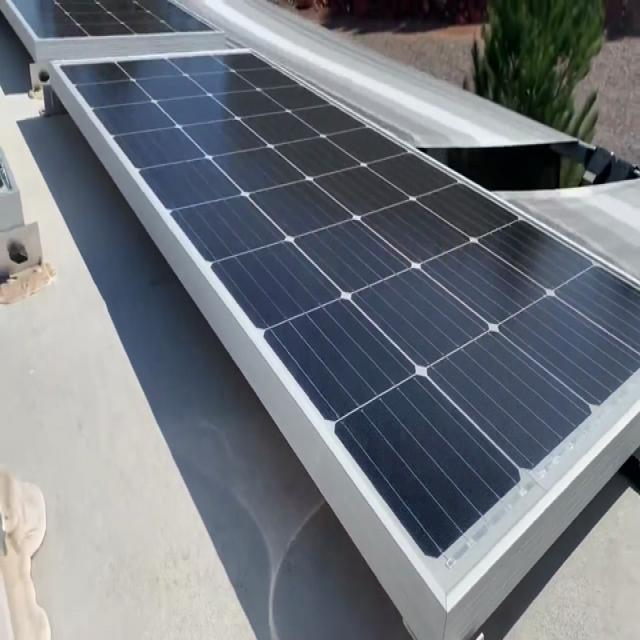Normal Solar Panel: (58, 44, 640, 611), (0, 0, 222, 33)
